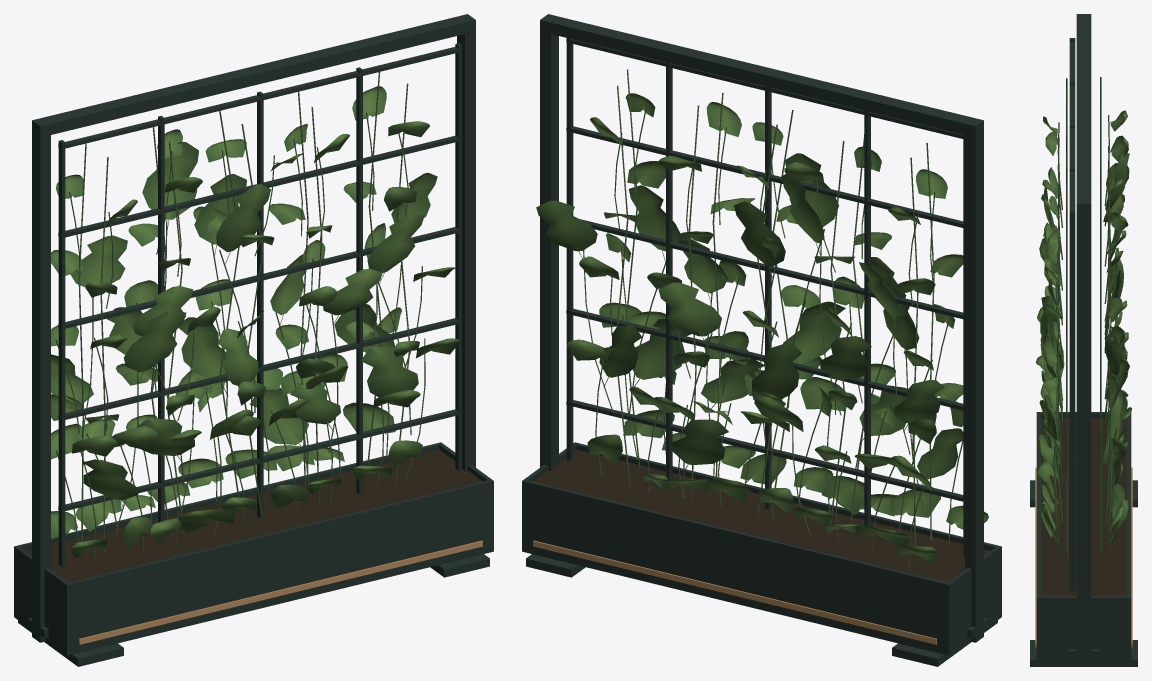
The model's file is botanicalDivider-3.glb.
The picture shows the model from 3 angles, left to right: view 1: azimuth 30°, elevation 25°; view 2: azimuth 150°, elevation 25°; view 3: azimuth 270°, elevation 25°; orthographic projection. The views are drawn at different scales.
Visible parts, largest first — view 1: Botanical_powdercoat, Botanical_living_foliage, Botanical_recessed_soil, Botanical_connected_stems, Botanical_frame_finish; view 2: Botanical_powdercoat, Botanical_living_foliage, Botanical_recessed_soil, Botanical_connected_stems, Botanical_frame_finish; view 3: Botanical_powdercoat, Botanical_living_foliage, Botanical_recessed_soil, Botanical_connected_stems, Botanical_frame_finish.
Part boxes in pixels (box(x1,y1,x2,y2)): Botanical_powdercoat: box(14, 14, 493, 666); Botanical_living_foliage: box(51, 86, 461, 558); Botanical_recessed_soil: box(25, 450, 482, 582); Botanical_connected_stems: box(55, 72, 425, 565); Botanical_frame_finish: box(79, 540, 482, 644); Botanical_powdercoat: box(522, 14, 1001, 666); Botanical_living_foliage: box(536, 93, 988, 562); Botanical_recessed_soil: box(533, 450, 990, 582); Botanical_connected_stems: box(578, 69, 963, 567); Botanical_frame_finish: box(533, 540, 936, 644); Botanical_powdercoat: box(1030, 14, 1137, 666); Botanical_living_foliage: box(1036, 110, 1131, 544); Botanical_recessed_soil: box(1041, 418, 1126, 596); Botanical_connected_stems: box(1052, 77, 1113, 558); Botanical_frame_finish: box(1035, 467, 1132, 648).
Size of the model in its own units: 2 by 2.3 by 0.48.
